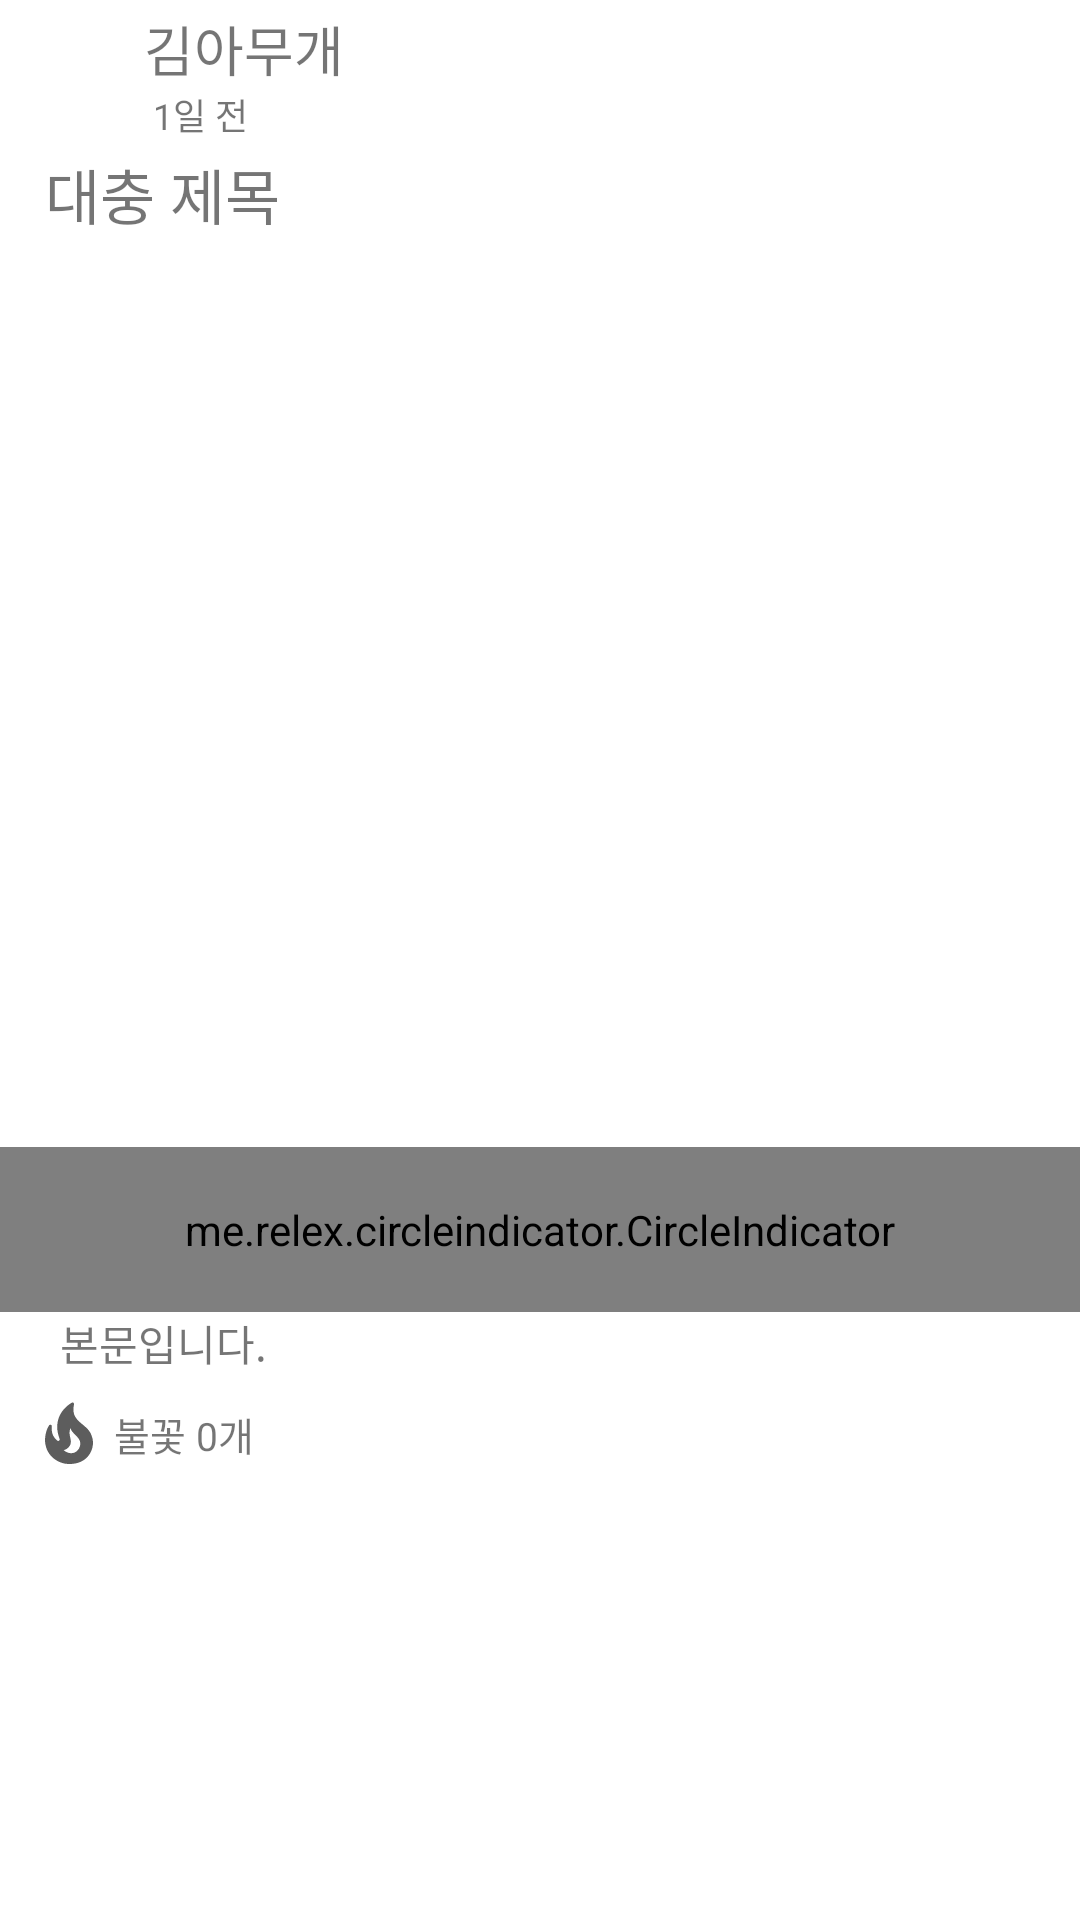

Screen size 1080px x 1920px. Icon name, then its center in pixels as (x=x, y=y):
before like: (x=69, y=1433)
